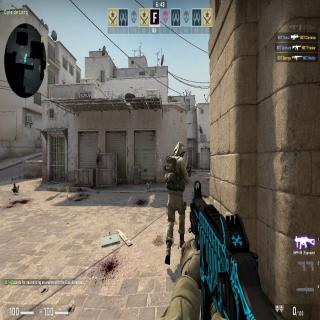T-Body: (166, 140, 190, 256)
T-Head: (173, 140, 184, 160)
